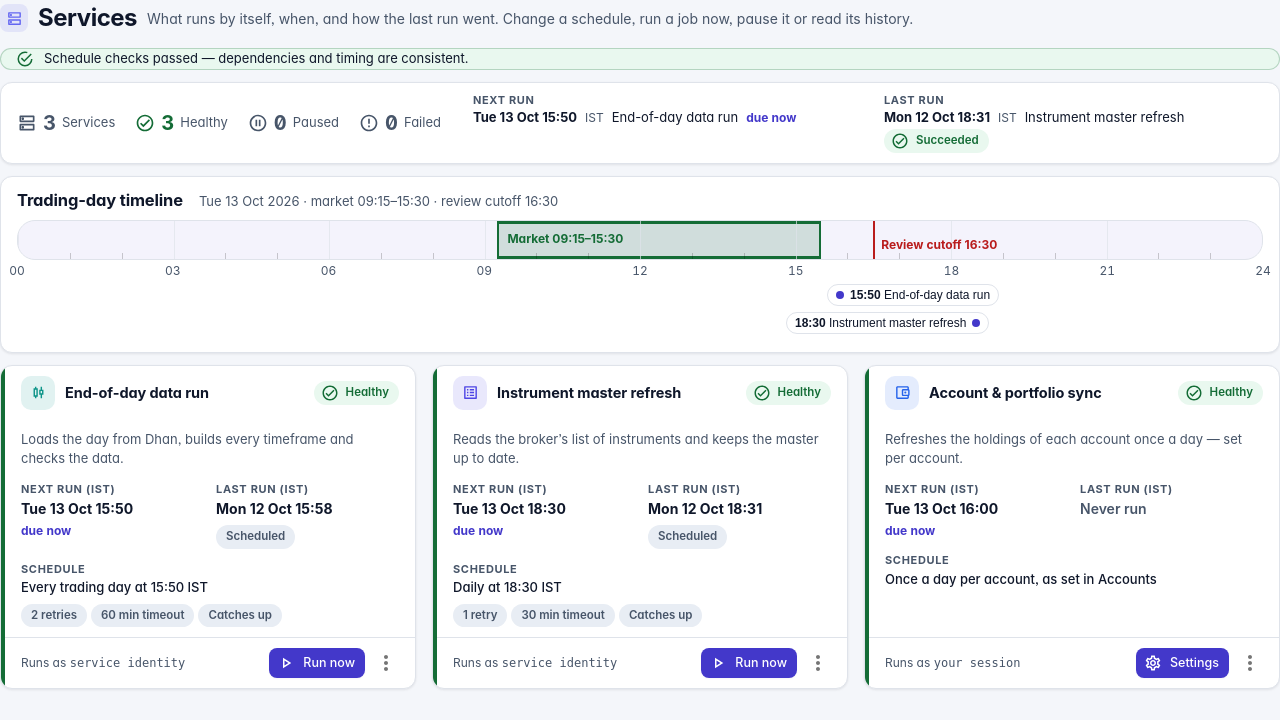
Test case: Services: the settings of the account sync › says it when saving fails, and keeps the dialog open
Click the button "Settings": (1182, 663) [1136,648,1229,678]
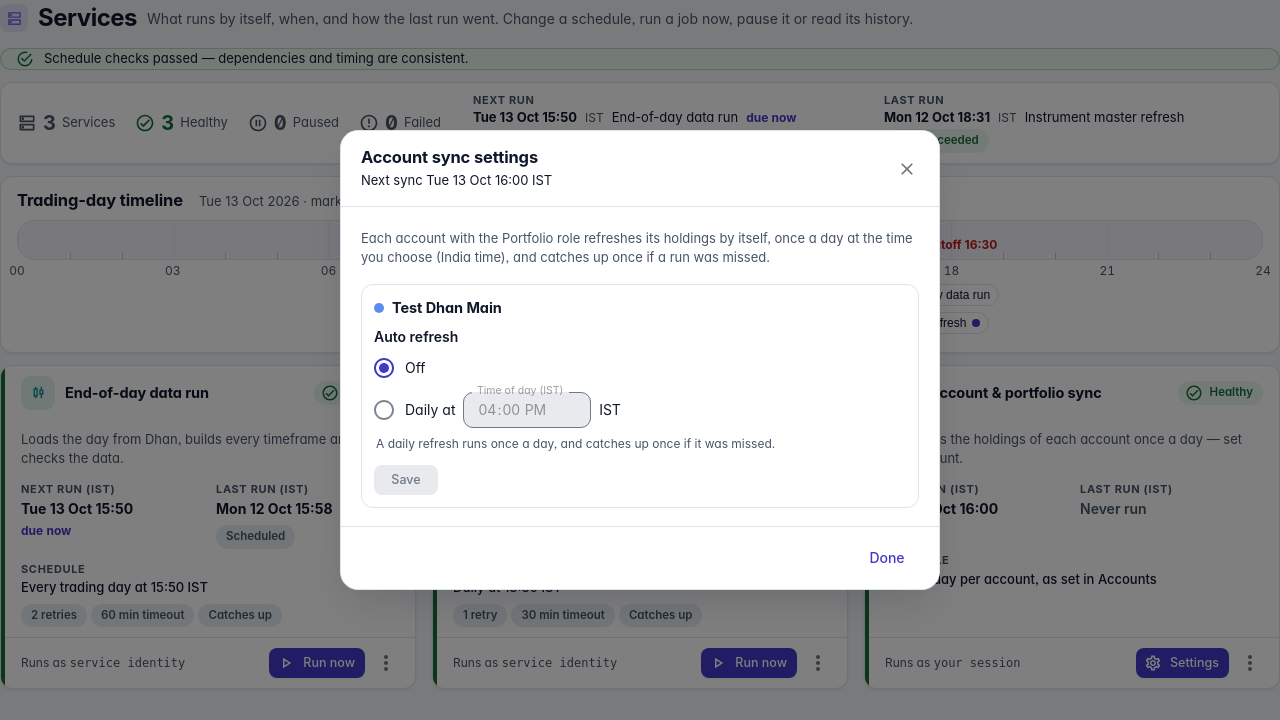
Click the radio button labelled "Daily at": (414, 410) [372,398,456,422]
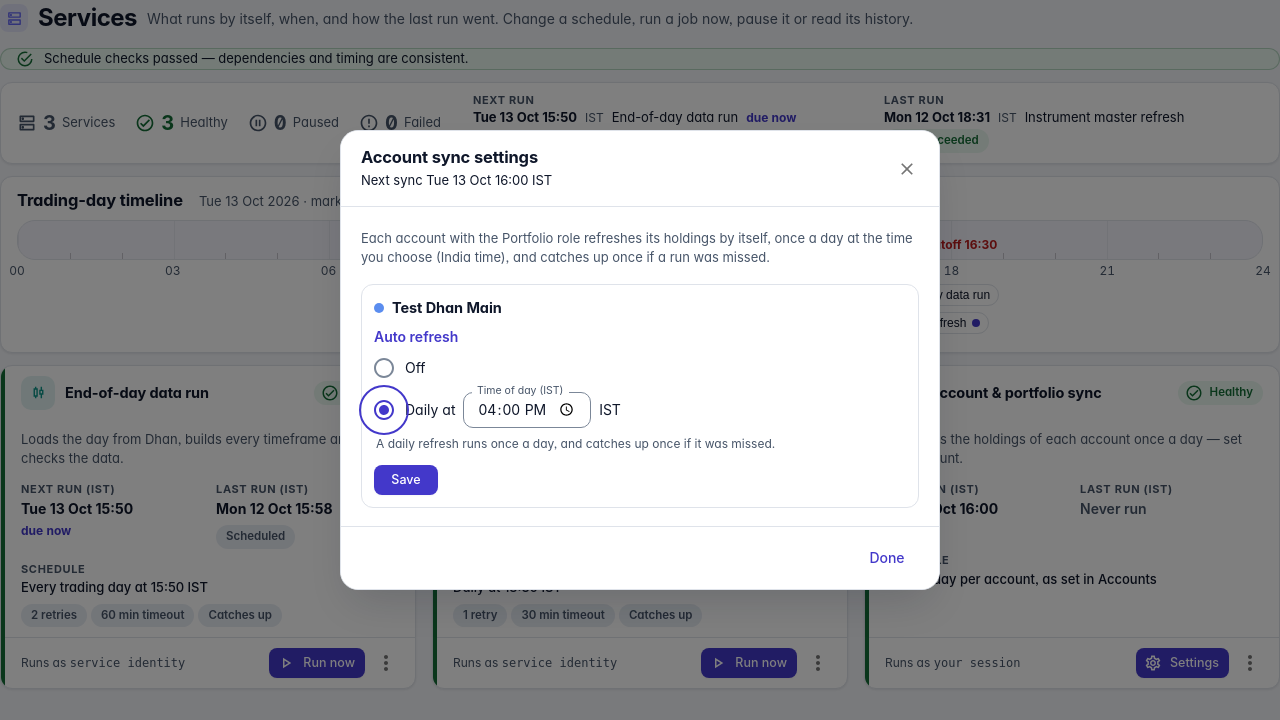
Click the button with aria-label "Save: Test Dhan Main": (406, 480) [374,465,438,495]
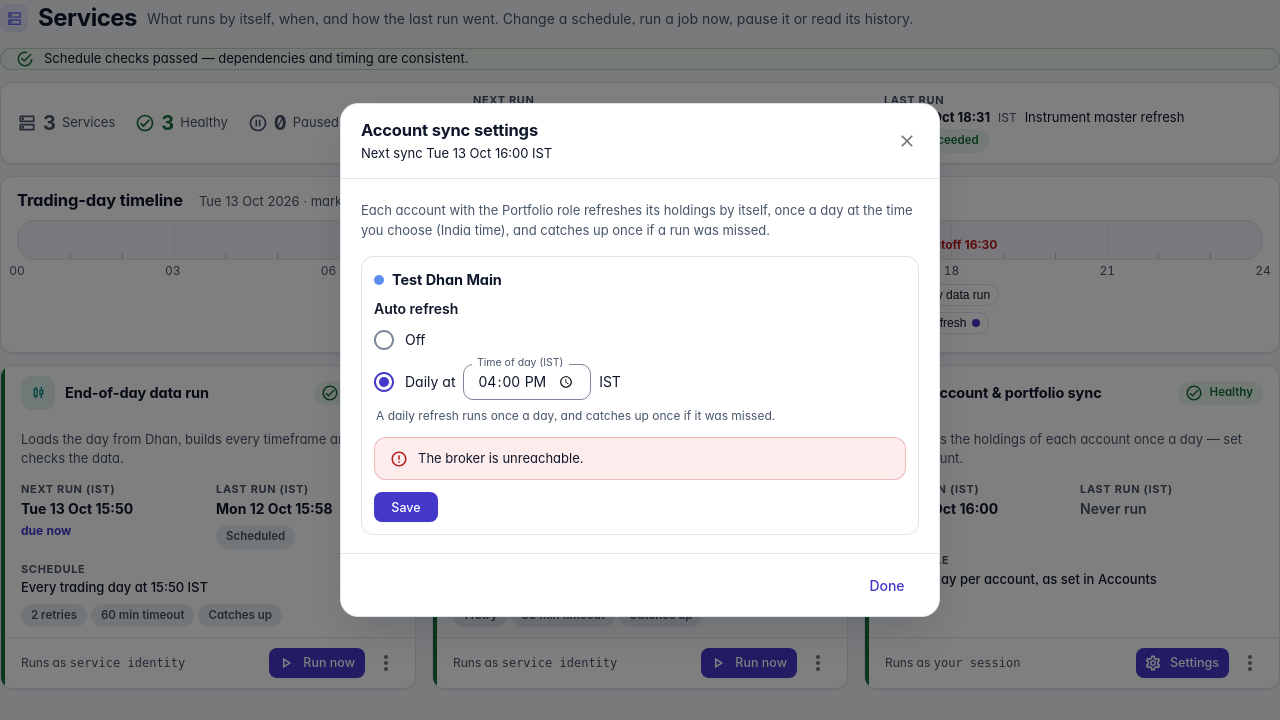
expect the dialog "Account sync settings" is shown: met, box [340,102,940,618]
expect the text "The broker is unreachable." is shown: met, box [418,449,584,468]
